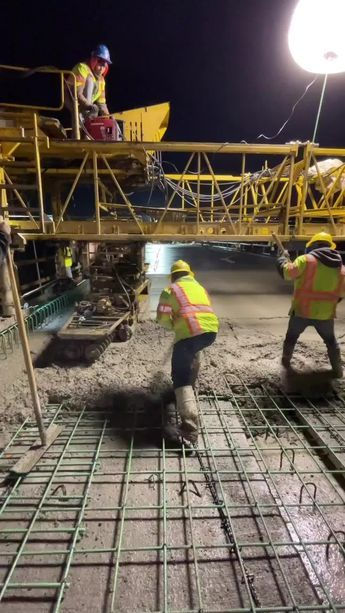hardhat: (293, 227, 337, 256), (168, 256, 196, 283), (89, 41, 114, 62)
person: (159, 245, 234, 494), (41, 38, 152, 163), (270, 220, 345, 389)
safety_vest: (160, 277, 223, 347), (287, 252, 336, 324), (57, 64, 123, 110)
